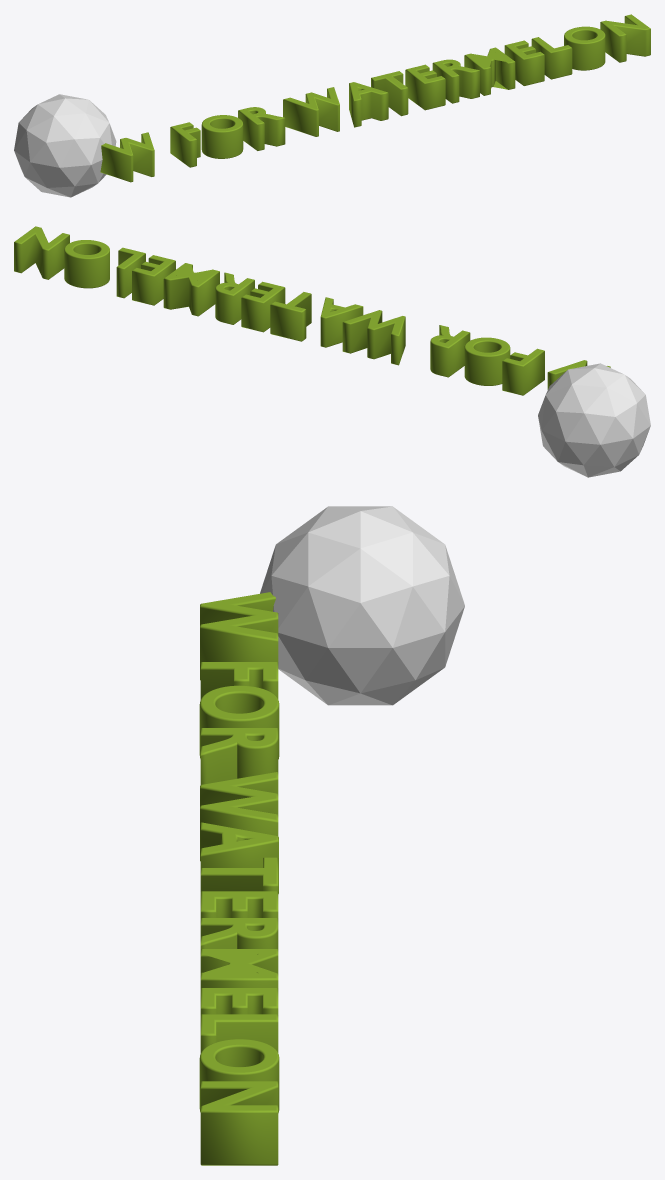
File: WATER MELON TEXT.fbx
The picture shows the model from 3 angles, top to bottom: view 1: azimuth 30°, elevation 25°; view 2: azimuth 150°, elevation 25°; view 3: azimuth 270°, elevation 25°; orthographic projection. The views are drawn at different scales.
Visible parts, largest first — view 1: Text.001, Icosphere; view 2: Text.001, Icosphere; view 3: Text.001, Icosphere.
Part boxes in pixels (bbox=[...]): Text.001: bbox=[100, 14, 650, 182]; Icosphere: bbox=[14, 94, 116, 197]; Text.001: bbox=[14, 226, 610, 395]; Icosphere: bbox=[538, 363, 650, 477]; Text.001: bbox=[199, 592, 279, 1165]; Icosphere: bbox=[260, 506, 464, 705].
Bounding box in the file's own units: 1300 × 200 × 254.
